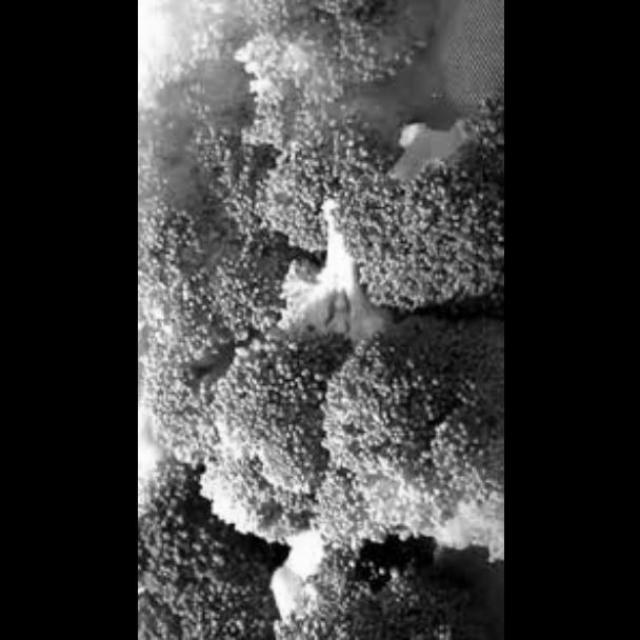bong cai xanh: (136, 1, 502, 631)
